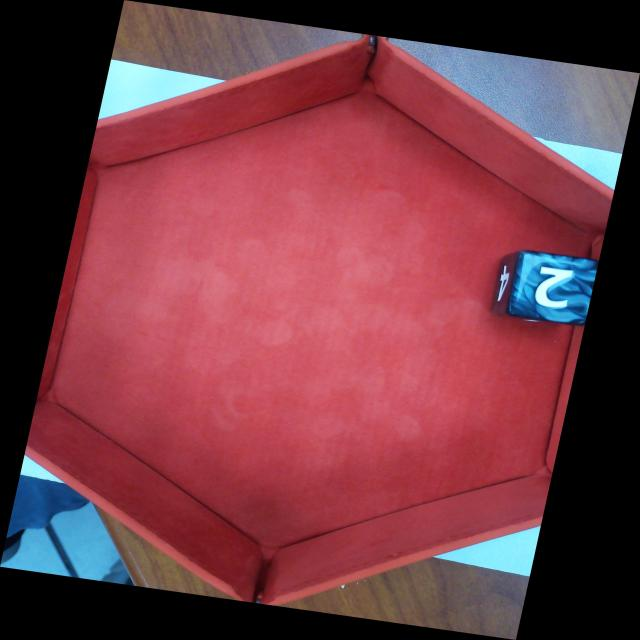dice: (511, 254, 598, 324)
